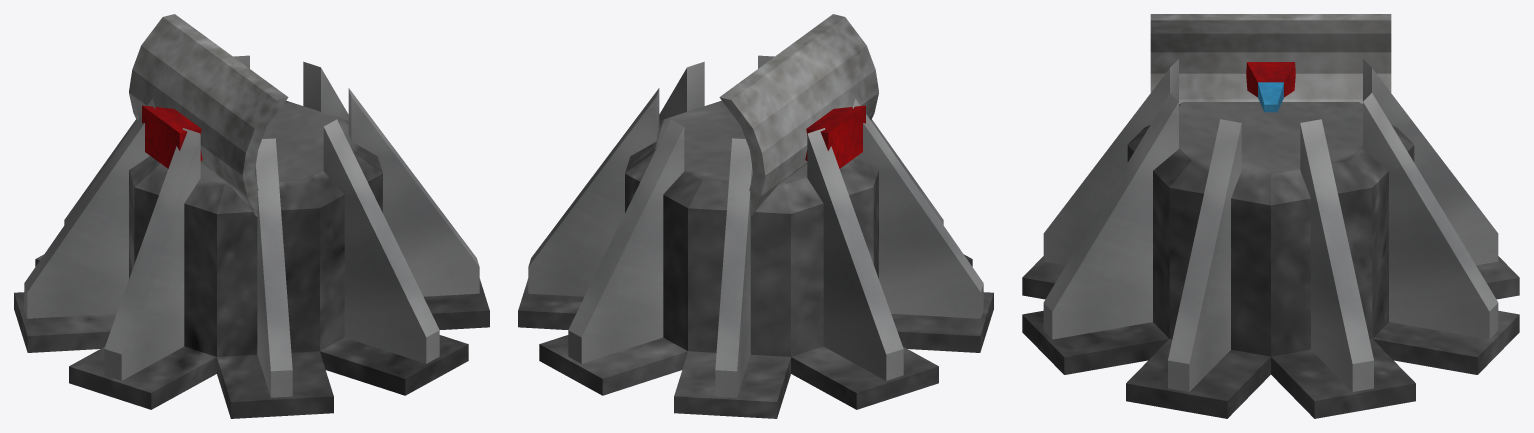
The model's file is TorreRadar2.fbx.
The picture shows the model from 3 angles, left to right: view 1: azimuth 30°, elevation 25°; view 2: azimuth 150°, elevation 25°; view 3: azimuth 270°, elevation 25°; orthographic projection. The views are drawn at different scales.
Parts seen in each view (by area): view 1: Base, Torre; view 2: Base, Torre; view 3: Base, Torre.
Part boxes in pixels (left/top/right/bottom): Base: left=14, top=55, right=489, bottom=418; Torre: left=129, top=14, right=288, bottom=216; Base: left=518, top=55, right=993, bottom=418; Torre: left=719, top=14, right=878, bottom=216; Base: left=1022, top=59, right=1519, bottom=418; Torre: left=1150, top=14, right=1391, bottom=112.
Bounding box in the file's own units: 769 × 484 × 769.
